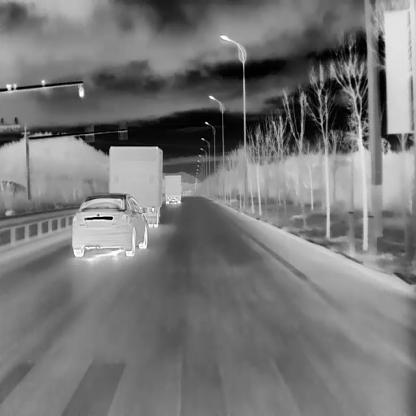car: (71, 192, 148, 256), (109, 145, 164, 227), (165, 175, 181, 203)
